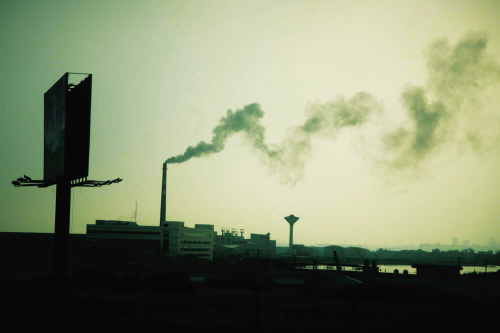dust: (160, 97, 263, 166)
